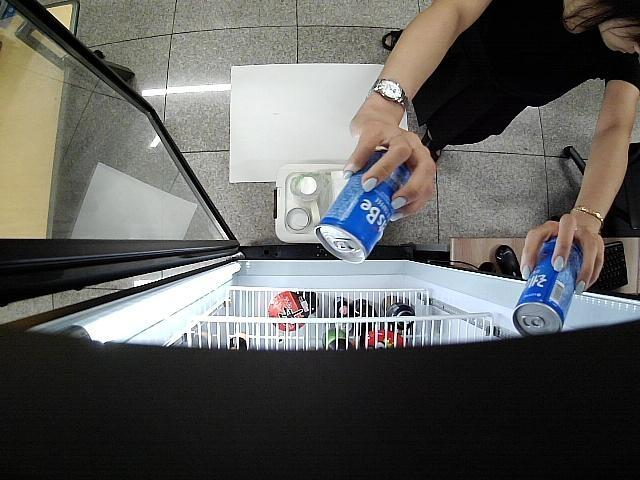15_letsbe: (314, 151, 410, 263), (512, 238, 588, 334)
